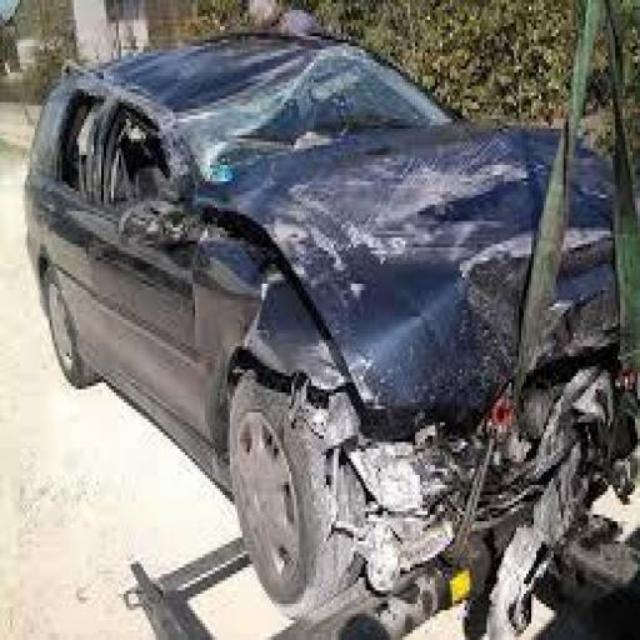crash: (95, 48, 640, 599)
